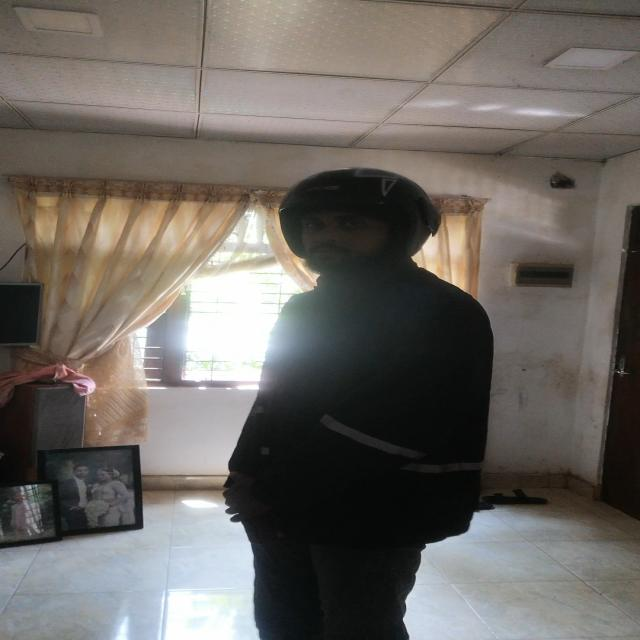Helmet_Wearer: (280, 167, 434, 296)
Jacket_Wearer: (224, 265, 493, 552)
Person: (222, 169, 488, 640)
